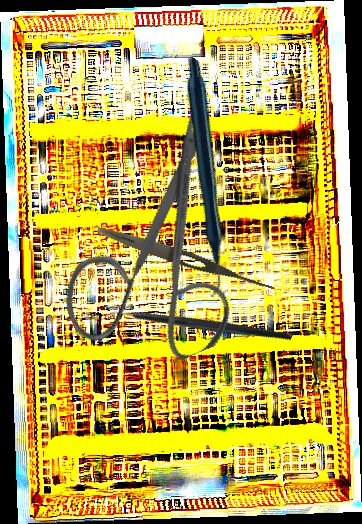Chopper: (100, 251, 294, 405)
Dressing Forceps: (95, 222, 279, 296)
Handpiece: (90, 55, 314, 299)
Iris Scissors: (14, 104, 294, 394)
